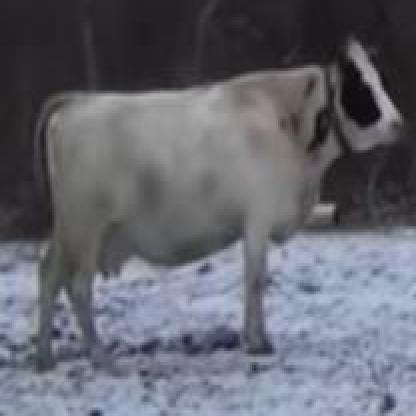cow: (39, 47, 401, 369)
